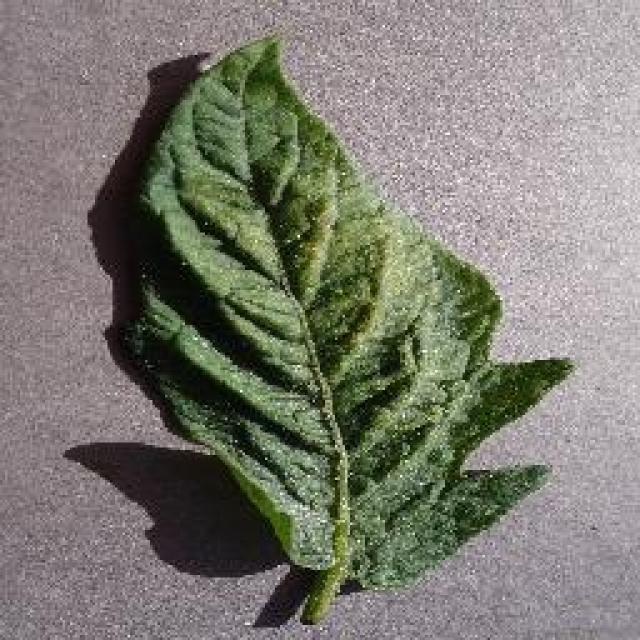Tomato spider mites leaf: (127, 25, 575, 590)
